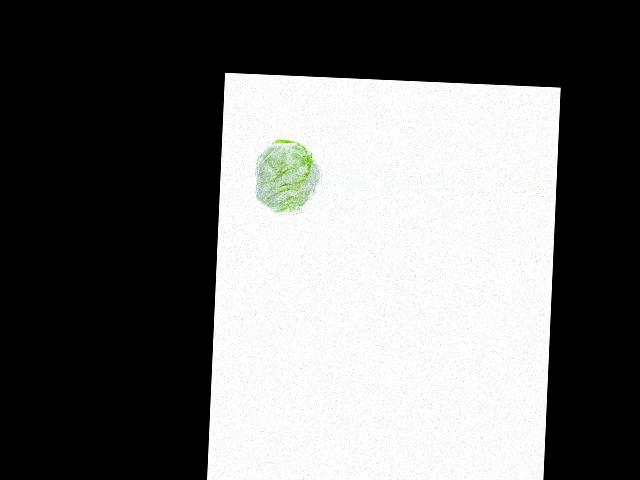lettuce: (256, 140, 322, 216)
